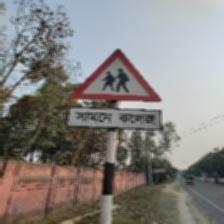College-in-front: (54, 32, 198, 162)
